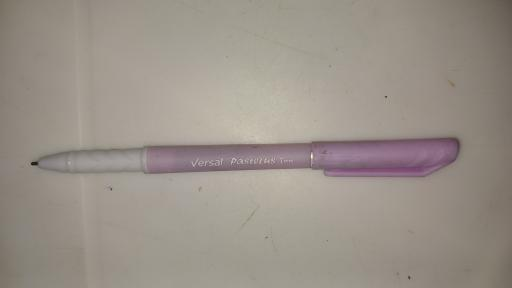pen: (29, 140, 462, 180)
